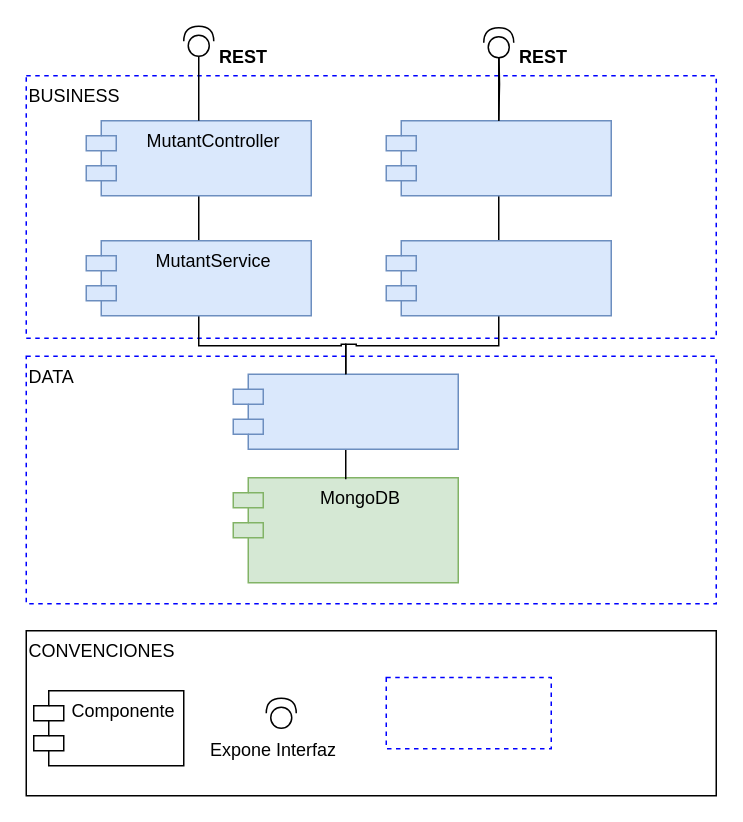
This 743x822 diagram has some shape labels left out. Each missing label, with the centre of its shape:
NIVEL: point (468, 712)
Repository: point (345, 411)
StatsController: point (498, 157)
StatsService: point (498, 277)
